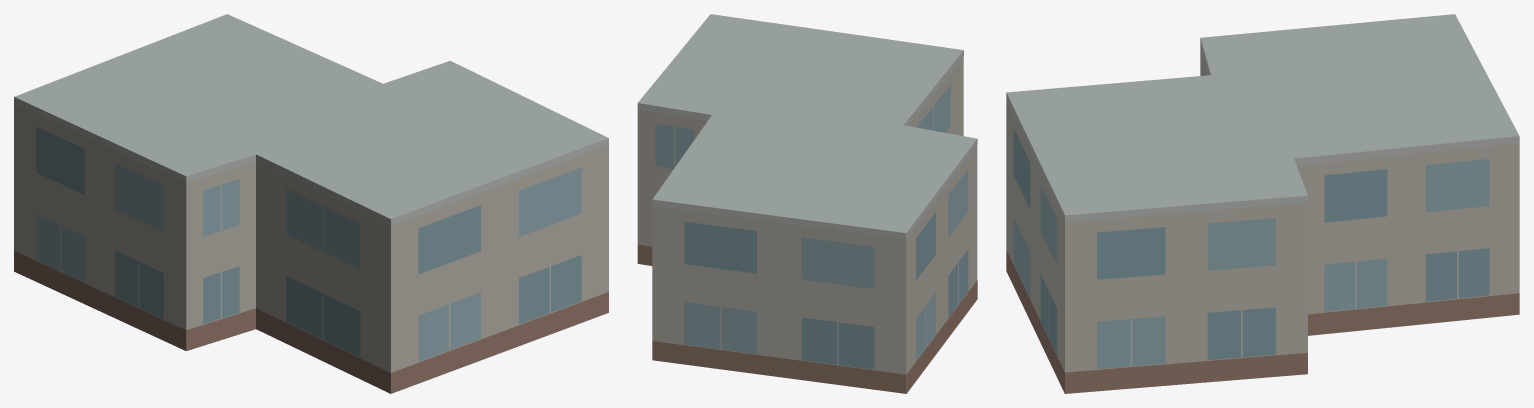
File: survey-upis-32660413.glb
The picture shows the model from 3 angles, left to right: view 1: azimuth 30°, elevation 25°; view 2: azimuth 150°, elevation 25°; view 3: azimuth 270°, elevation 25°; orthographic projection. The views are drawn at different scales.
Visible parts, largest first — view 1: survey-upis-32660413.tmp; view 2: survey-upis-32660413.tmp; view 3: survey-upis-32660413.tmp.
Part boxes in pixels (x1=…): survey-upis-32660413.tmp: x1=14, y1=14, x2=608, y2=393; survey-upis-32660413.tmp: x1=637, y1=14, x2=977, y2=393; survey-upis-32660413.tmp: x1=1006, y1=14, x2=1519, y2=393.
Bounding box in the file's own units: 14.76 × 6.1 × 15.9.
